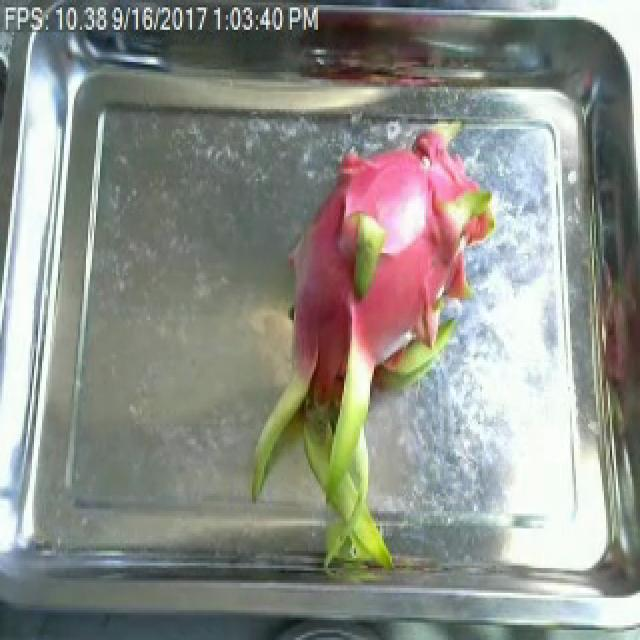fruit: (230, 139, 486, 568)
